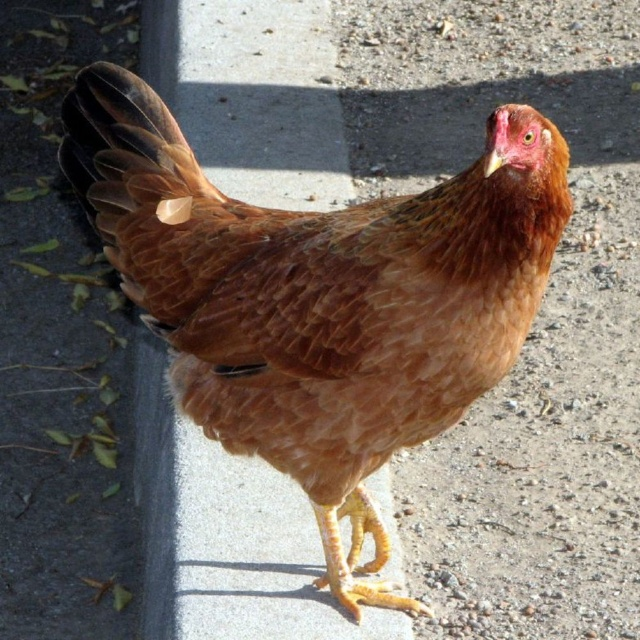Chicken: (94, 87, 584, 640)
